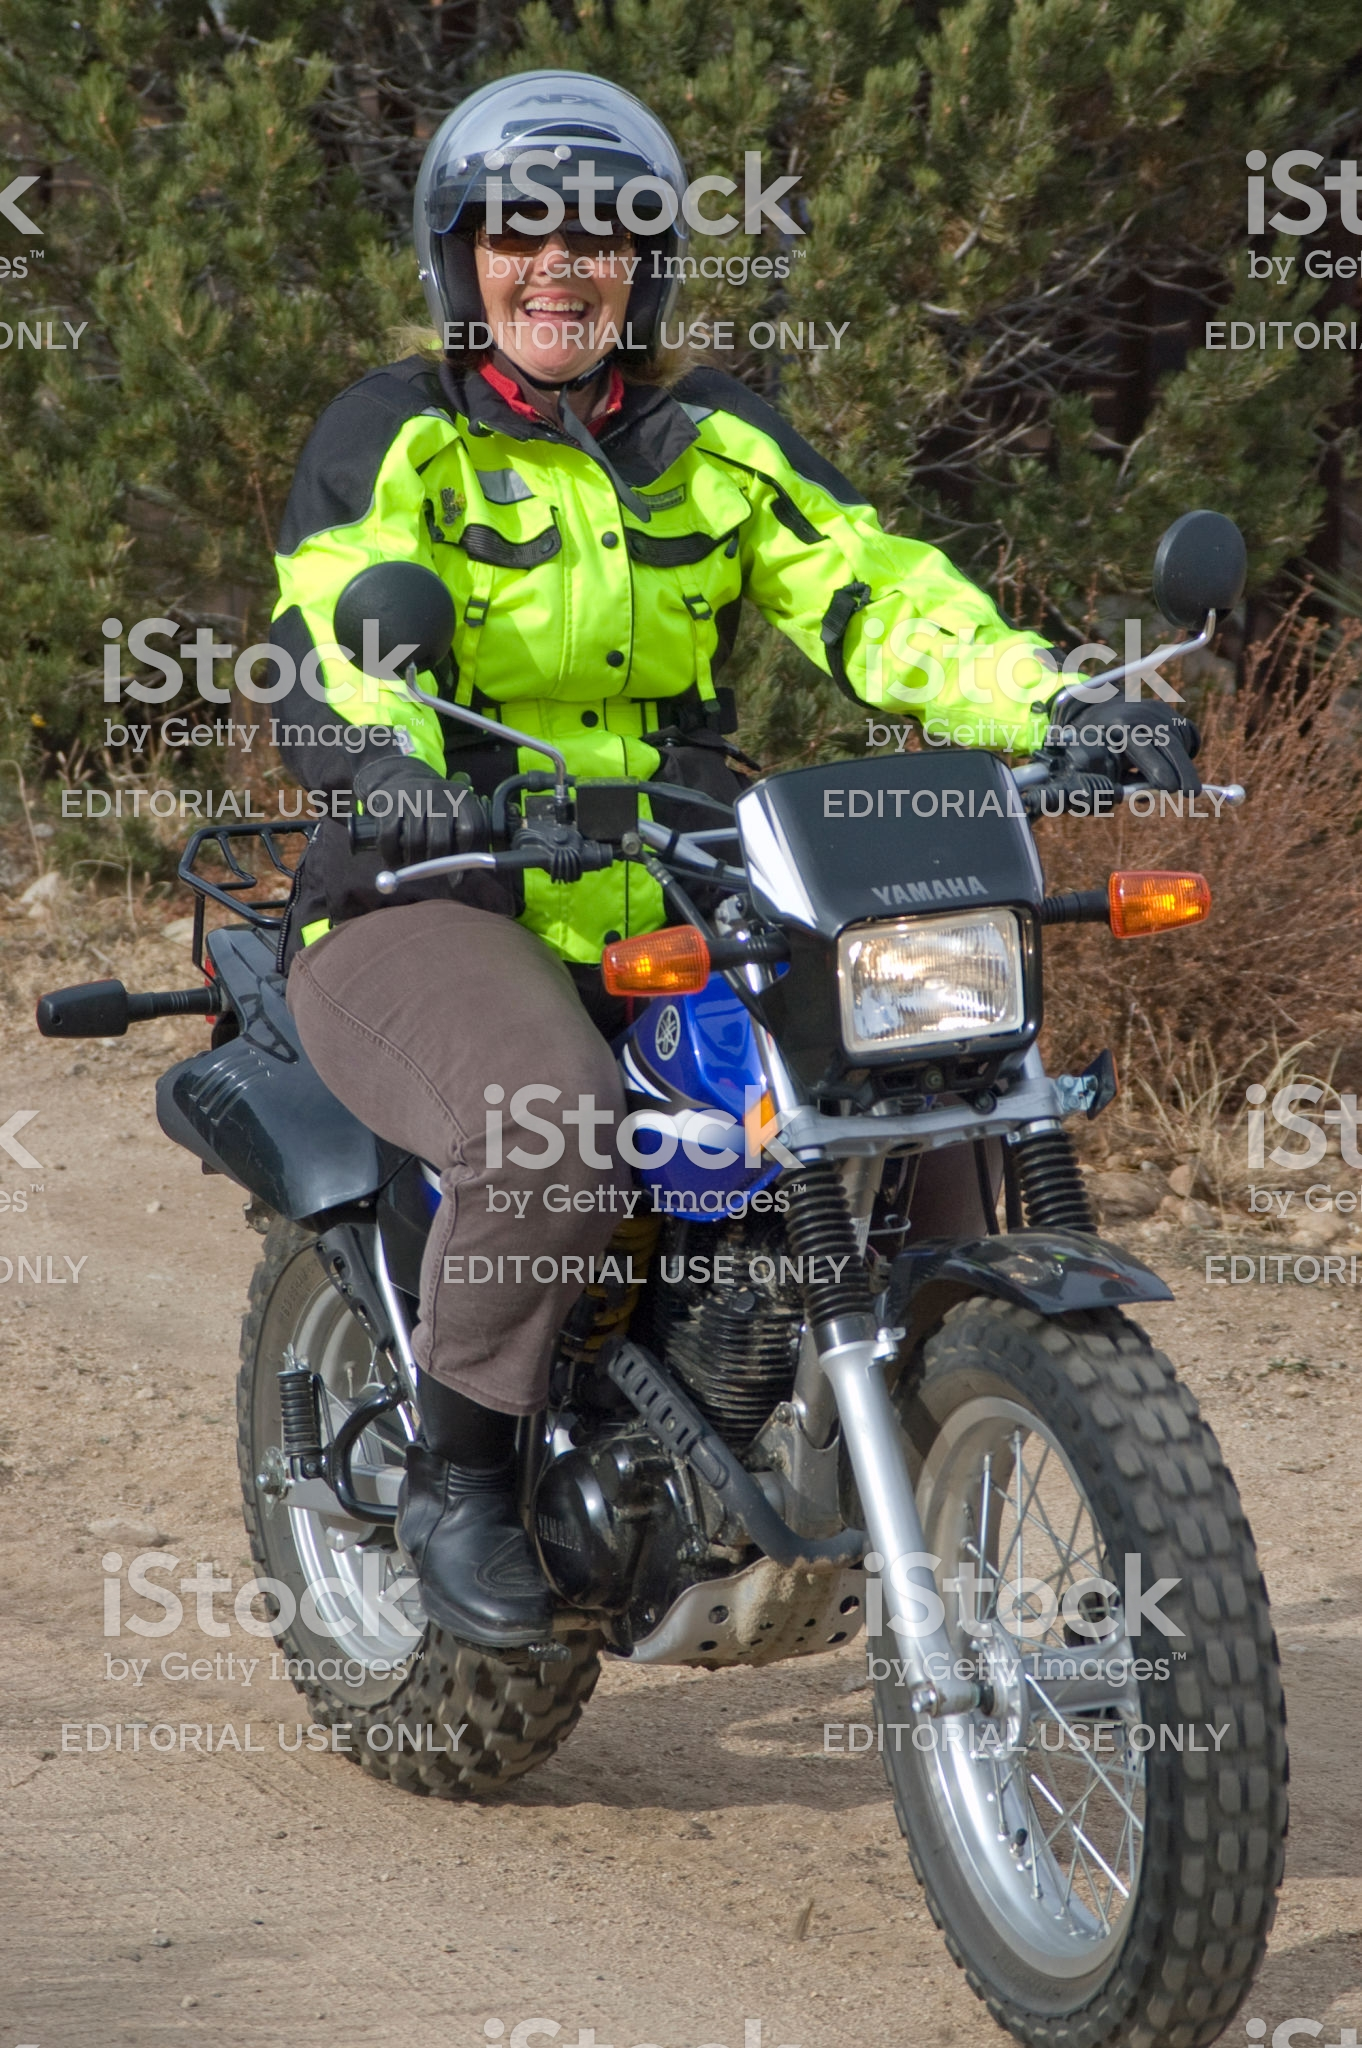helmet: (398, 74, 699, 302)
